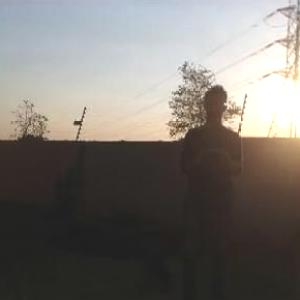follow: (173, 77, 244, 297)
